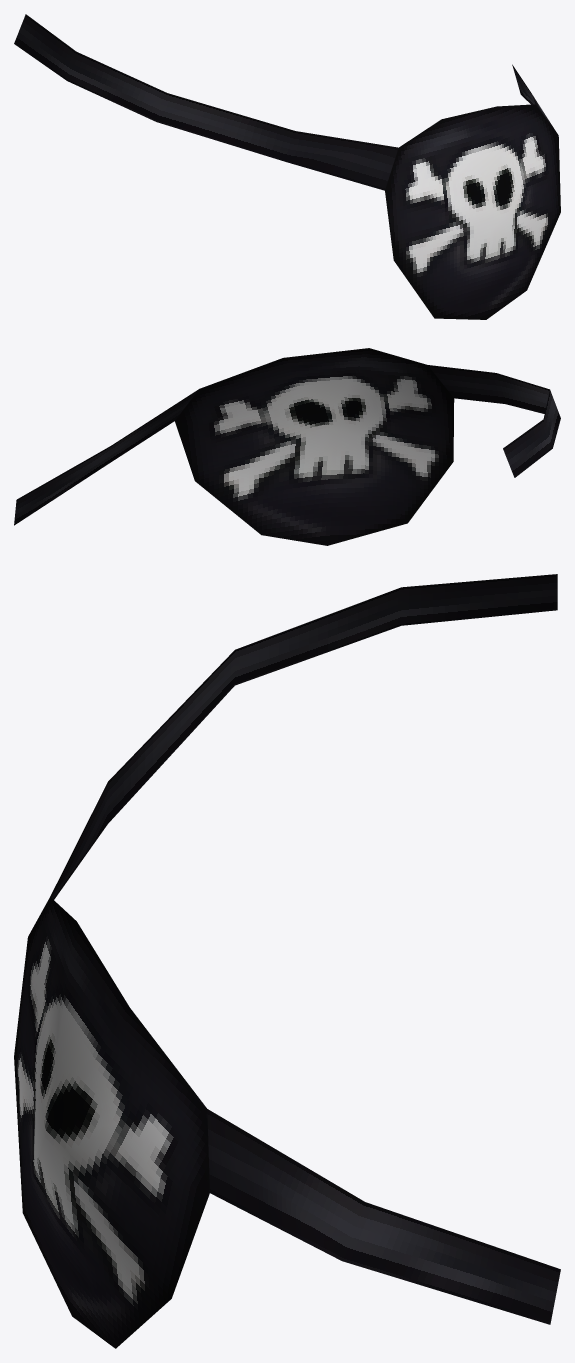
File: tt_m_chr_avt_acc_msk_eyepatch.glb
3 views of the same model, one above another, from view 1: azimuth 30°, elevation 25°; view 2: azimuth 150°, elevation 25°; view 3: azimuth 270°, elevation 25° (orthographic). The views are drawn at different scales.
Parts seen in each view (by area): view 1: eyepatch; view 2: eyepatch; view 3: eyepatch.
Boxes of the visible parts, left/top/right/bottom form: eyepatch: left=14, top=14, right=560, bottom=319; eyepatch: left=14, top=348, right=560, bottom=545; eyepatch: left=14, top=574, right=560, bottom=1348.
Bounding box in the file's own units: 2.88 × 1.52 × 1.58.
Materials: 1 (1 with a texture image).
